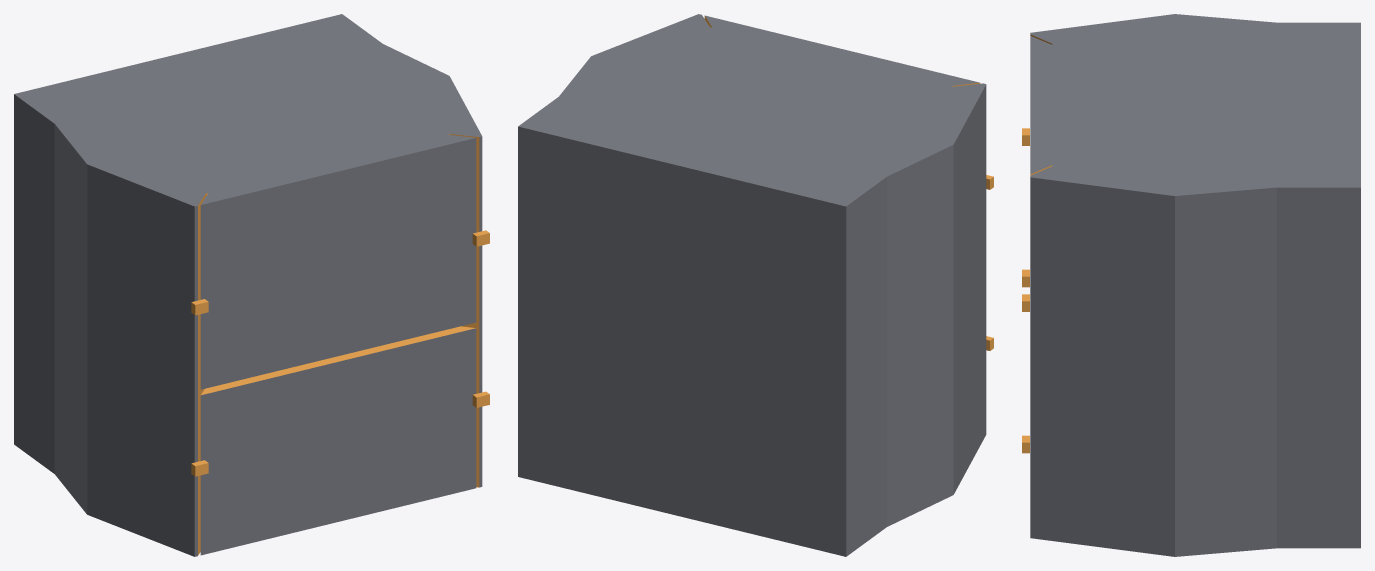
The model's file is titan.glb.
The picture shows the model from 3 angles, left to right: view 1: azimuth 30°, elevation 25°; view 2: azimuth 150°, elevation 25°; view 3: azimuth 270°, elevation 25°; orthographic projection. The views are drawn at different scales.
Parts seen in each view (by area): view 1: shell, upper, lower; view 2: shell, upper; view 3: shell, upper.
Boxes of the visible parts, x1,y1,x2,y2 form: shell: (14,14,482,556); upper: (200,134,476,389); lower: (200,326,476,555); shell: (518,14,986,556); upper: (704,15,980,86); shell: (1030,14,1360,556); upper: (1030,36,1052,175).
Bounding box in the file's own units: 2.16 × 2 × 1.7.
